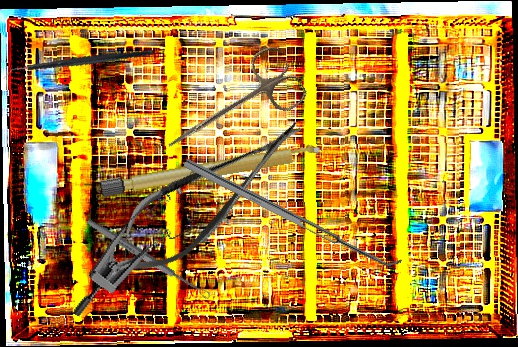Chopper: (2, 18, 154, 111)
Iris Scissors: (152, 41, 311, 177)
Micro Scissor: (91, 98, 323, 297)
Scalpel Handle: (97, 141, 328, 199)
Spatula Surgical: (183, 150, 403, 275)
Speculum: (69, 178, 203, 345)
Surgical Spoon: (85, 217, 212, 301)
